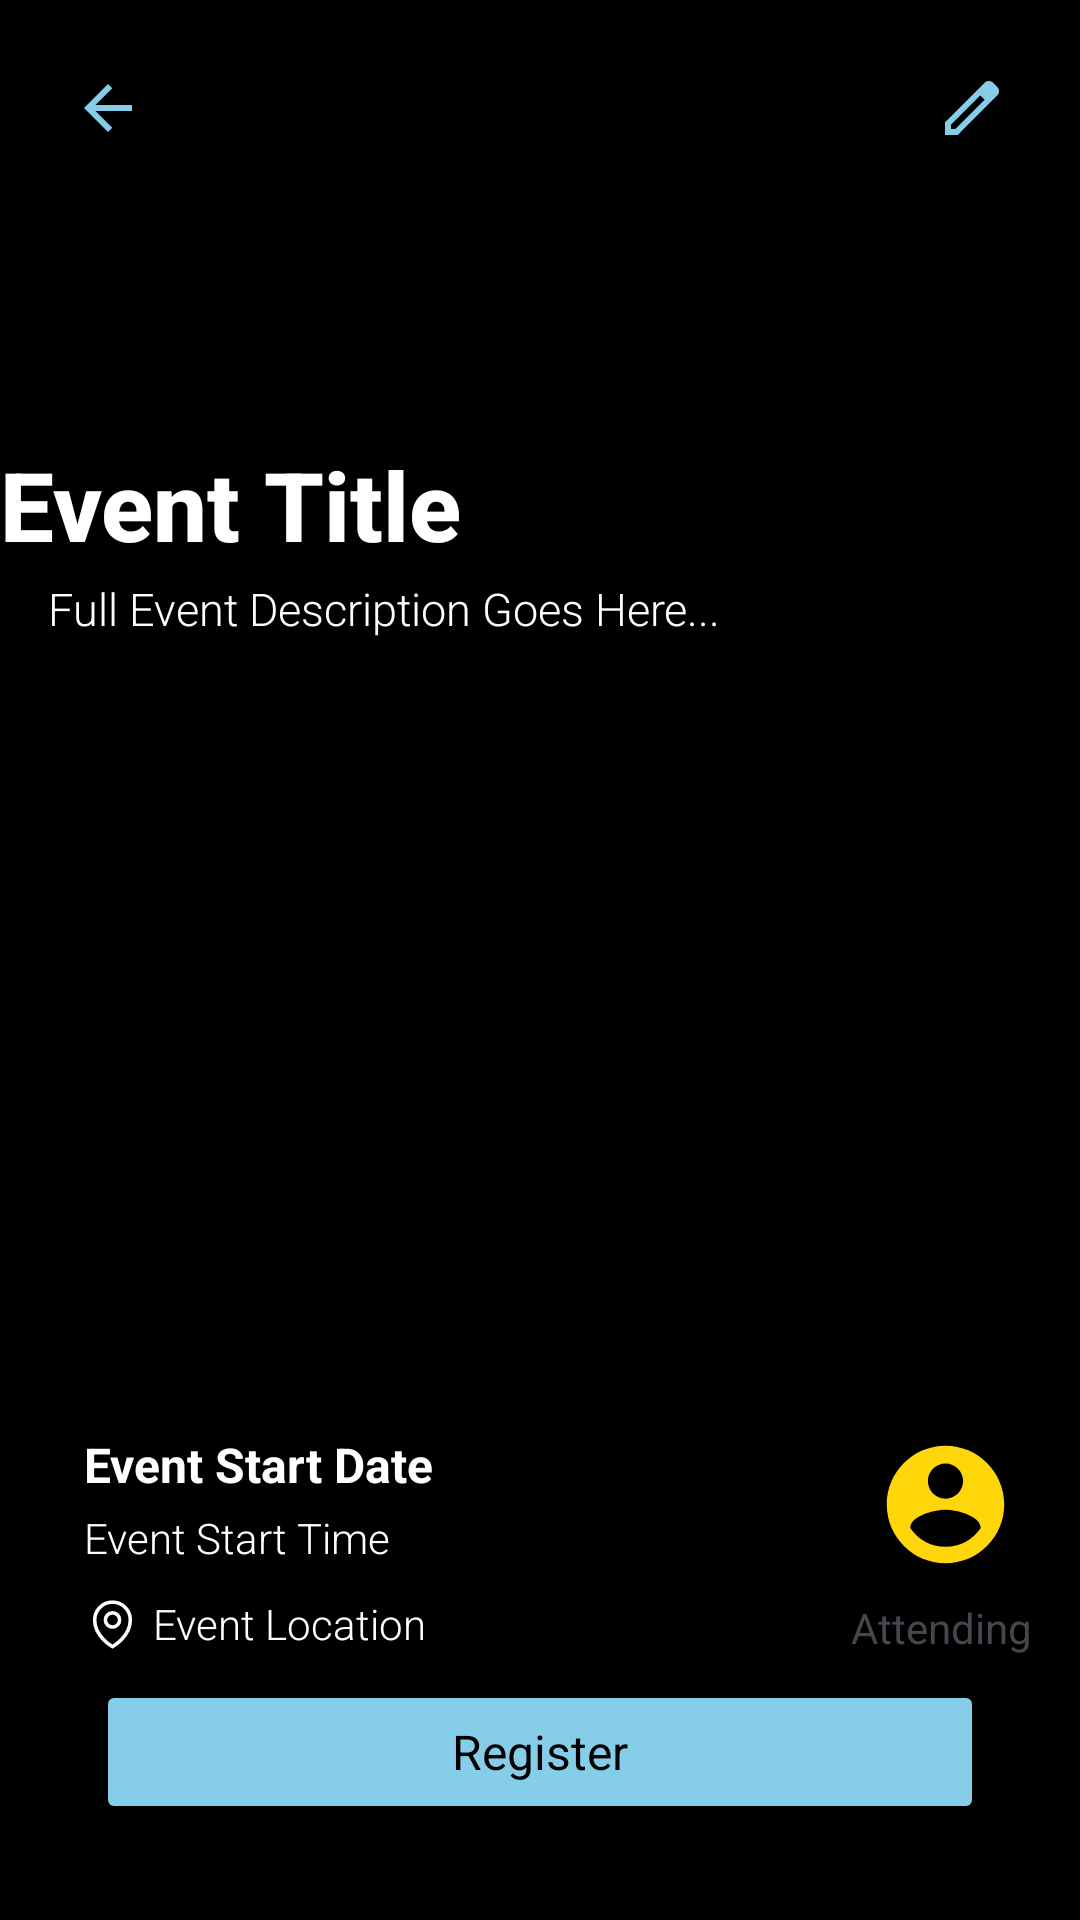

Point at icon controls on the screen. Image size 1080px×1920px, points as point (x, y).
account circle: point (945, 1504)
arrow back: point (108, 108)
edit: point (972, 108)
